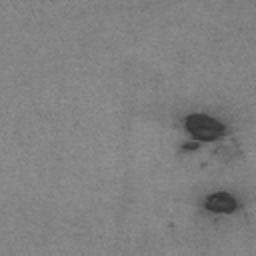Iron sheet ash: (179, 114, 227, 152), (202, 192, 238, 215)
